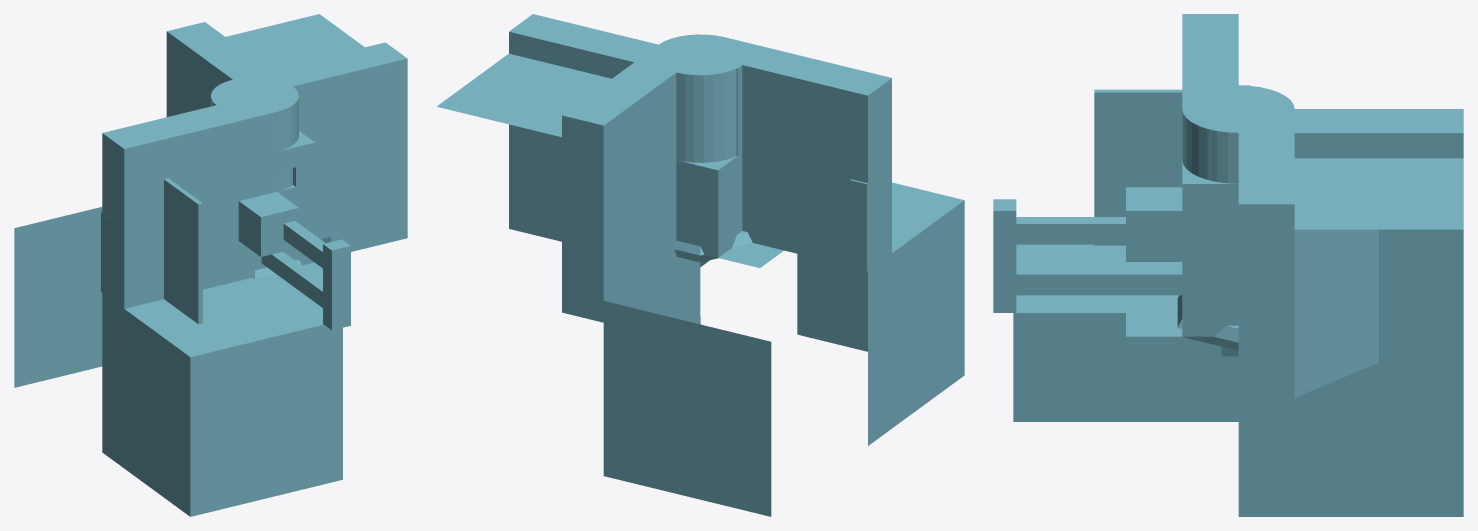
The model's file is SC_Blockout.fbx.
3 renders of one model, left to right at view 1: azimuth 30°, elevation 25°; view 2: azimuth 150°, elevation 25°; view 3: azimuth 270°, elevation 25°, orthographic. The views are drawn at different scales.
Visible parts, largest first — view 1: SM_Wall_Corner_Top, SM_Wall_Corner_Wide, SM_Wall_Corner, SM_Wall_Door_Open, SM_Wall_Wide, SM_Pillar_Bracket, SM_Fence_Corner, SM_Wall_Corner_Bevel_Top, SM_Wall_Corner_Bevel, SM_Wall_Corner_Bevel_Wide, SM_Wall_Door, SM_Overhang (+6 smaller); view 2: SM_Wall_Corner, SM_Wall_Corner_Wide, SM_Wall_Wide, SM_Wall_Corner_Top, SM_Wall_Corner_Bevel_Wide, SM_Wall_Corner_Bevel_Top, SM_Wall_Corner_Bevel_Trim, SM_Cylinder_Large, SM_Wall_Door, SM_Pillar_Bracket, SM_Wall, SM_Fence_Corner (+12 smaller); view 3: SM_Wall_Corner_Wide, SM_Wall_Corner, SM_Wall_Corner_Top, SM_Wall_Corner_Bevel_Wide, SM_Wall_Corner_Bevel_Top, SM_Fence_Corner, SM_Wall_Door_Open, SM_Cylinder_Large, SM_Overhang, SM_Door_Large_Wide, SM_Pillar_Bracket, SM_Wall_Wide (+12 smaller).
Boxes of the visible parts, box(x1,y1,x2,y2) form: SM_Wall_Corner_Top: box(102, 281, 342, 516); SM_Wall_Corner_Wide: box(166, 22, 407, 239); SM_Wall_Corner: box(14, 207, 102, 387); SM_Wall_Door_Open: box(104, 115, 273, 324); SM_Wall_Wide: box(102, 97, 266, 308); SM_Pillar_Bracket: box(103, 101, 276, 245); SM_Fence_Corner: box(101, 212, 350, 330); SM_Wall_Corner_Bevel_Top: box(226, 14, 364, 69); SM_Wall_Corner_Bevel: box(321, 103, 407, 251); SM_Wall_Corner_Bevel_Wide: box(166, 51, 407, 242); SM_Wall_Door: box(124, 180, 259, 307); SM_Overhang: box(238, 192, 298, 256); SM_Wall_Corner: box(603, 249, 771, 516); SM_Wall_Corner_Wide: box(509, 14, 690, 299); SM_Wall_Wide: box(703, 37, 891, 266); SM_Wall_Corner_Top: box(797, 182, 964, 445); SM_Wall_Corner_Bevel_Wide: box(509, 69, 651, 322); SM_Wall_Corner_Bevel_Top: box(437, 53, 588, 137); SM_Wall_Corner_Bevel_Trim: box(509, 185, 651, 322); SM_Cylinder_Large: box(652, 34, 748, 162); SM_Wall_Door: box(742, 65, 867, 265); SM_Pillar_Bracket: box(718, 46, 891, 137); SM_Wall: box(742, 68, 867, 263); SM_Fence_Corner: box(850, 175, 878, 271); SM_Wall_Corner_Wide: box(1238, 109, 1463, 407); SM_Wall_Corner: box(1238, 362, 1463, 516); SM_Wall_Corner_Top: box(1013, 244, 1238, 421); SM_Wall_Corner_Bevel_Wide: box(1238, 158, 1463, 433); SM_Wall_Corner_Bevel_Top: box(1294, 158, 1463, 229); SM_Fence_Corner: box(993, 199, 1182, 312); SM_Wall_Door_Open: box(1094, 14, 1238, 245); SM_Cylinder_Large: box(1182, 85, 1294, 183); SM_Overhang: box(1126, 187, 1182, 261); SM_Door_Large_Wide: box(1182, 161, 1238, 335); SM_Pillar_Bracket: box(1182, 14, 1238, 104); SM_Wall_Wide: box(1182, 14, 1238, 105).
Bounding box in the file's own units: 8.01 × 8 × 8.36.
